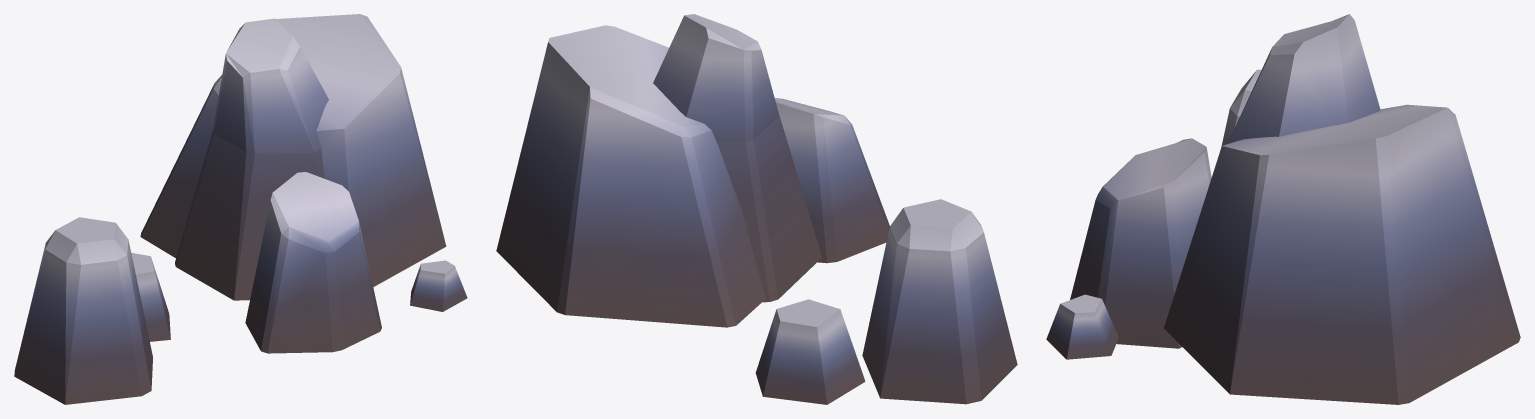
The model's file is block_mountain_1_2.fbx.
3 views of the same model, side by side, from view 1: azimuth 30°, elevation 25°; view 2: azimuth 150°, elevation 25°; view 3: azimuth 270°, elevation 25° (orthographic). The views are drawn at different scales.
Parts seen in each view (by area): view 1: block_mountain_1_2; view 2: block_mountain_1_2; view 3: block_mountain_1_2.
Part boxes in pixels (<box>): block_mountain_1_2: <box>14,14,467,404</box>; block_mountain_1_2: <box>496,14,1017,404</box>; block_mountain_1_2: <box>1046,14,1520,404</box>.
Size of the model in its own units: 90.11 by 60.61 by 71.34.
